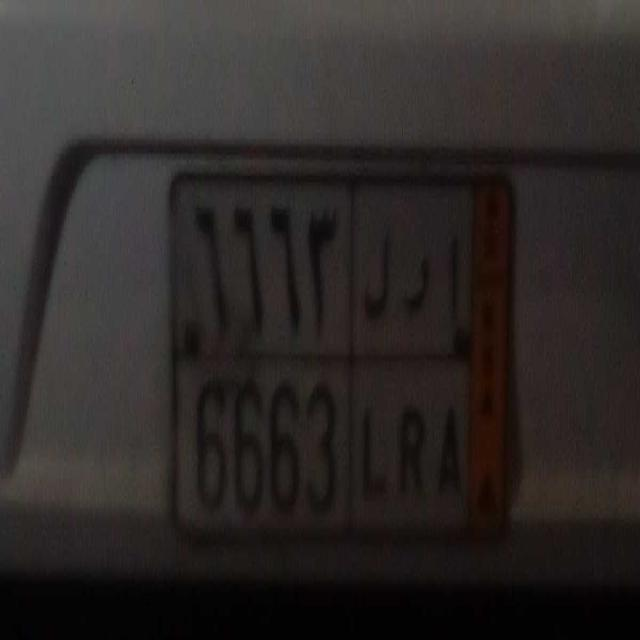license_plate: (178, 354, 472, 540)
